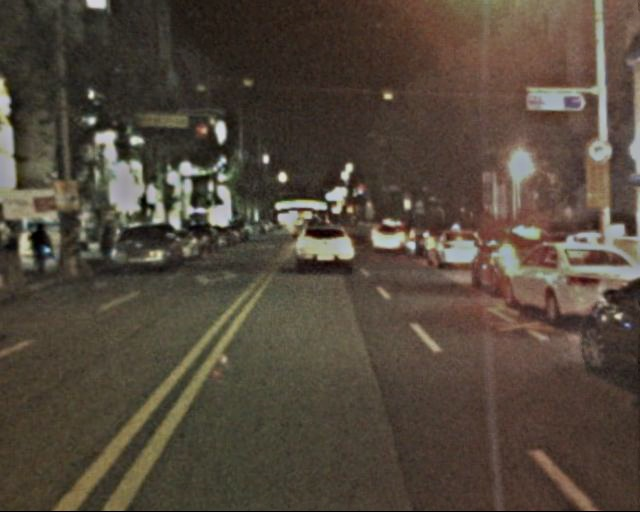person: (29, 219, 61, 275)
